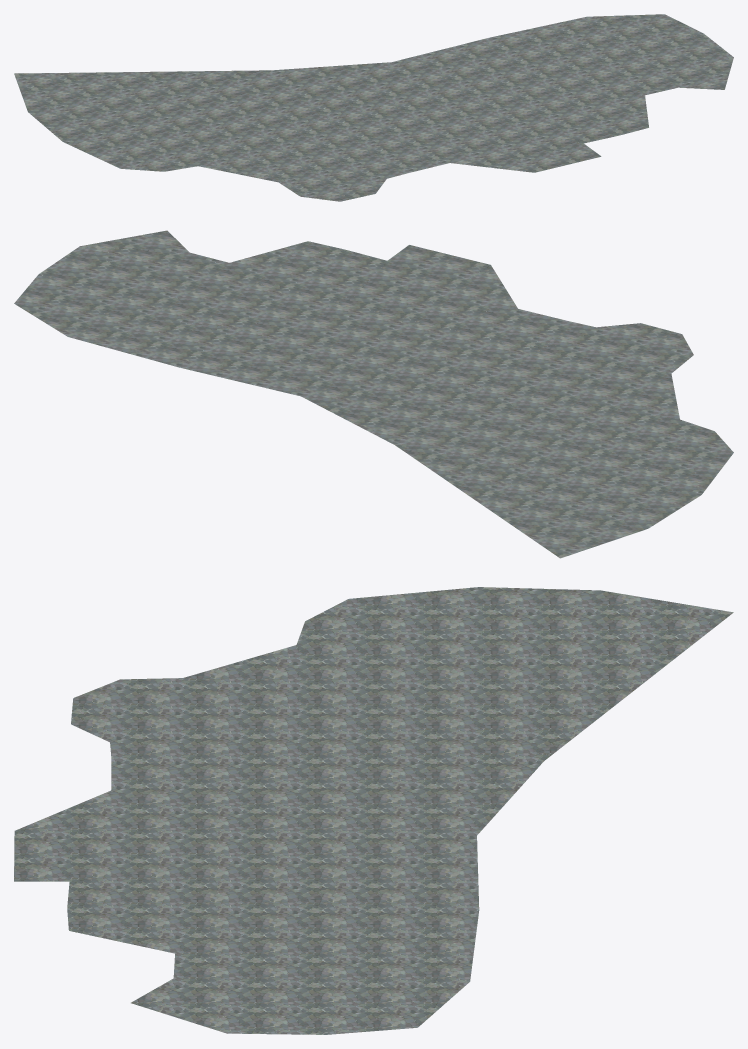
File: Map_06_ground06.FBX
The picture shows the model from 3 angles, top to bottom: view 1: azimuth 30°, elevation 25°; view 2: azimuth 150°, elevation 25°; view 3: azimuth 270°, elevation 25°; orthographic projection. The views are drawn at different scales.
Parts seen in each view (by area): view 1: Map_06_ground06; view 2: Map_06_ground06; view 3: Map_06_ground06.
Boxes of the visible parts, x1,y1,x2,y2 form: Map_06_ground06: (14, 14, 733, 201); Map_06_ground06: (14, 230, 733, 558); Map_06_ground06: (14, 587, 733, 1034).
Size of the model in its own units: 13038 by 0.00144 by 8857.
Materials: 1 (1 with a texture image).
